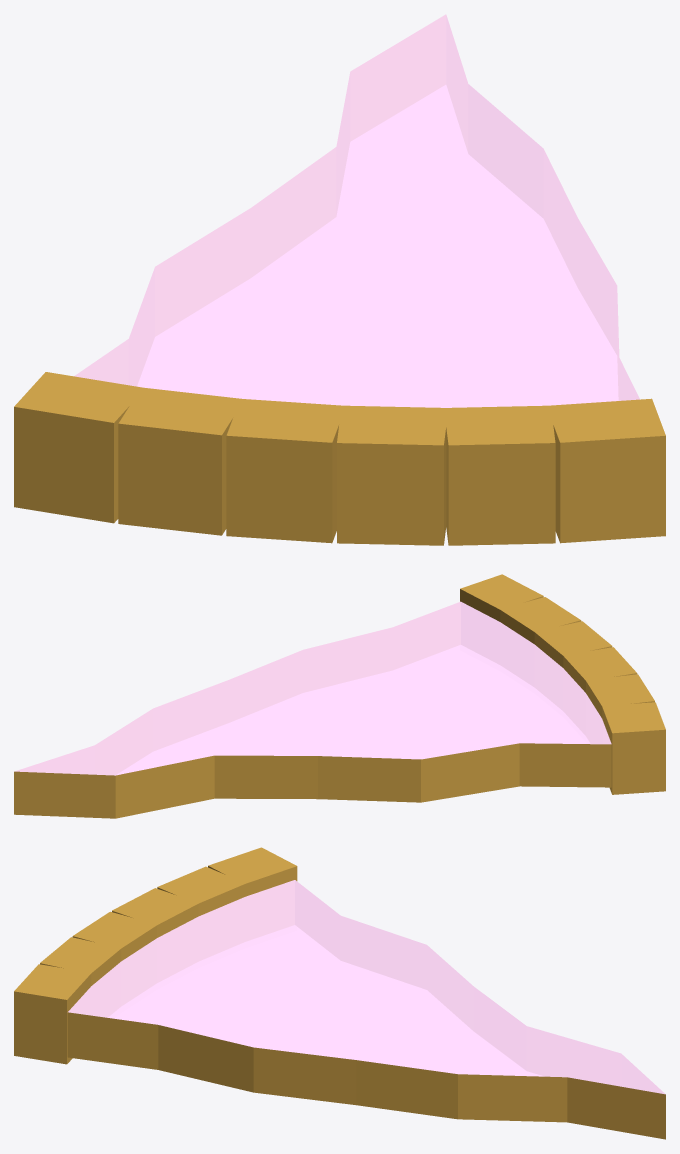
File: prop_compass_piece_07_v01.glb
The picture shows the model from 3 angles, top to bottom: view 1: azimuth 30°, elevation 25°; view 2: azimuth 150°, elevation 25°; view 3: azimuth 270°, elevation 25°; orthographic projection. The views are drawn at different scales.
Parts seen in each view (by area): view 1: piece_07; view 2: piece_07; view 3: piece_07.
Part boxes in pixels (bbox=[...]): piece_07: bbox=[14, 14, 665, 545]; piece_07: bbox=[14, 574, 665, 818]; piece_07: bbox=[14, 847, 665, 1139].
Bounding box in the file's own units: 0.3893 × 0.05 × 0.4581.
